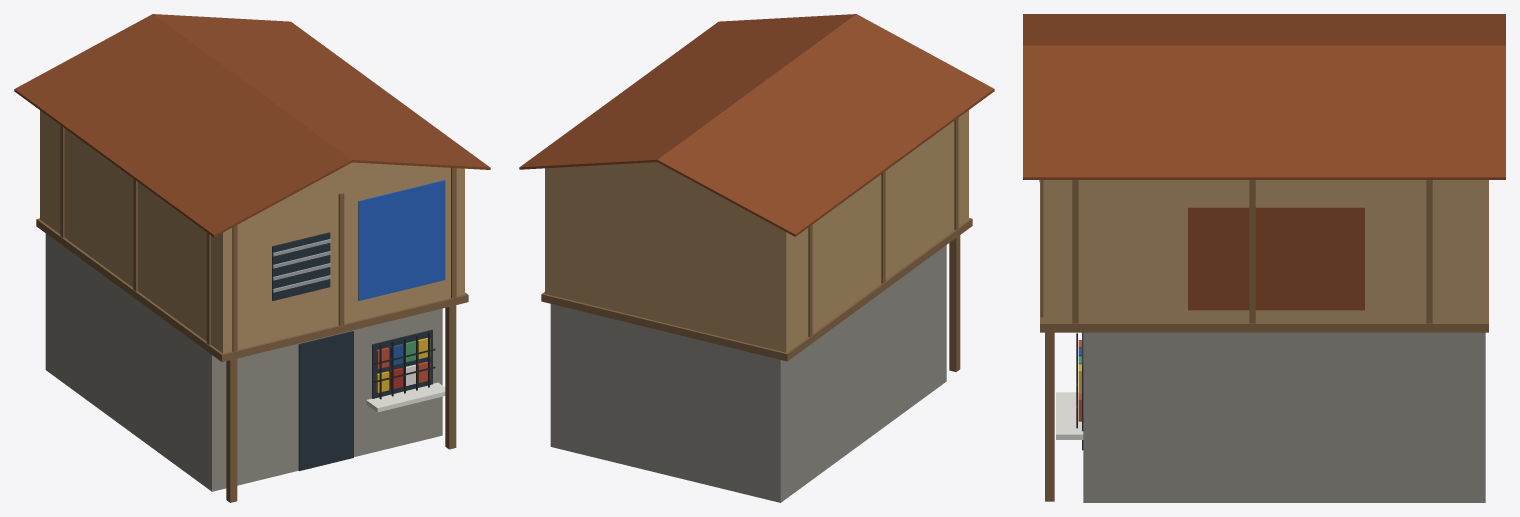
The model's file is BAY_I_Shanty2F_B.glb.
3 renders of one model, left to right at view 1: azimuth 30°, elevation 25°; view 2: azimuth 150°, elevation 25°; view 3: azimuth 270°, elevation 25°, orthographic. The views are drawn at different scales.
Visible parts, largest first — view 1: BAY_I_Shanty2F_B; view 2: BAY_I_Shanty2F_B; view 3: BAY_I_Shanty2F_B.
Part boxes in pixels (x1,y1,x2,y2): BAY_I_Shanty2F_B: (14, 14, 490, 502); BAY_I_Shanty2F_B: (519, 14, 994, 502); BAY_I_Shanty2F_B: (1023, 14, 1505, 502).
Bounding box in the file's own units: 4.8 × 5.34 × 6.
1 material, 1 textured.
